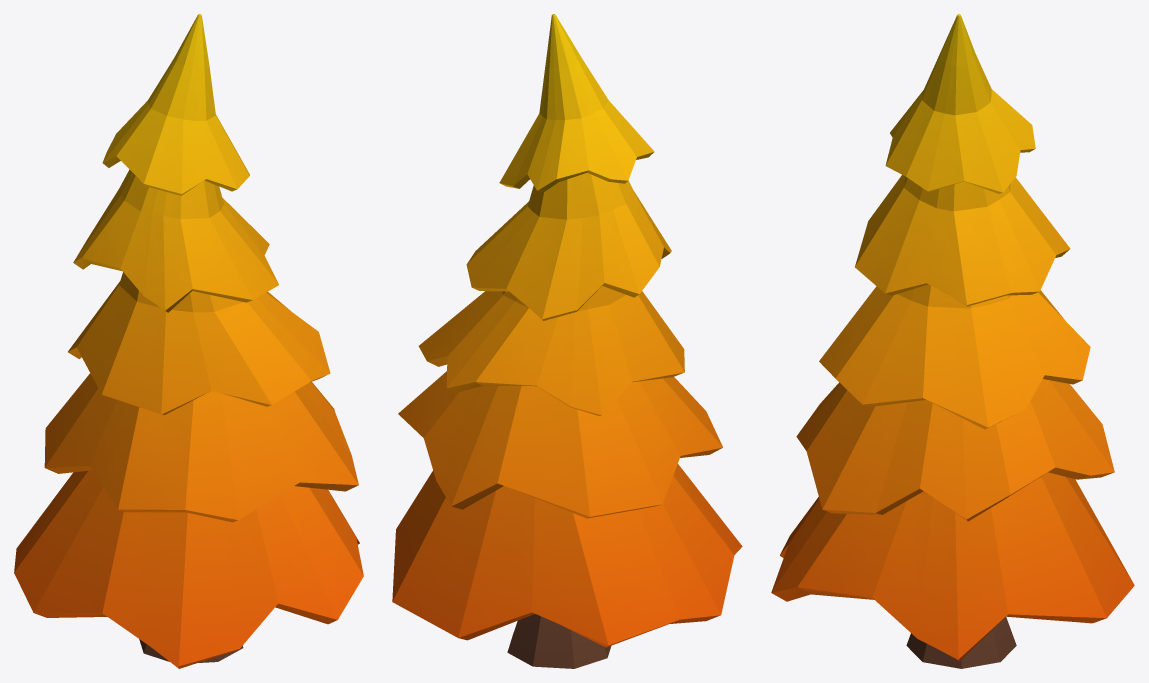
The model's file is autumn fir tree bent.fbx.
3 renders of one model, left to right at view 1: azimuth 30°, elevation 25°; view 2: azimuth 150°, elevation 25°; view 3: azimuth 270°, elevation 25°, orthographic.
Visible parts, largest first — view 1: autumn fir tree bent; view 2: autumn fir tree bent; view 3: autumn fir tree bent.
Boxes of the visible parts, x1,y1,x2,y2 form: autumn fir tree bent: (14,14,363,668); autumn fir tree bent: (392,14,742,668); autumn fir tree bent: (771,14,1134,668).
Size of the model in its own units: 447 by 830 by 431.
